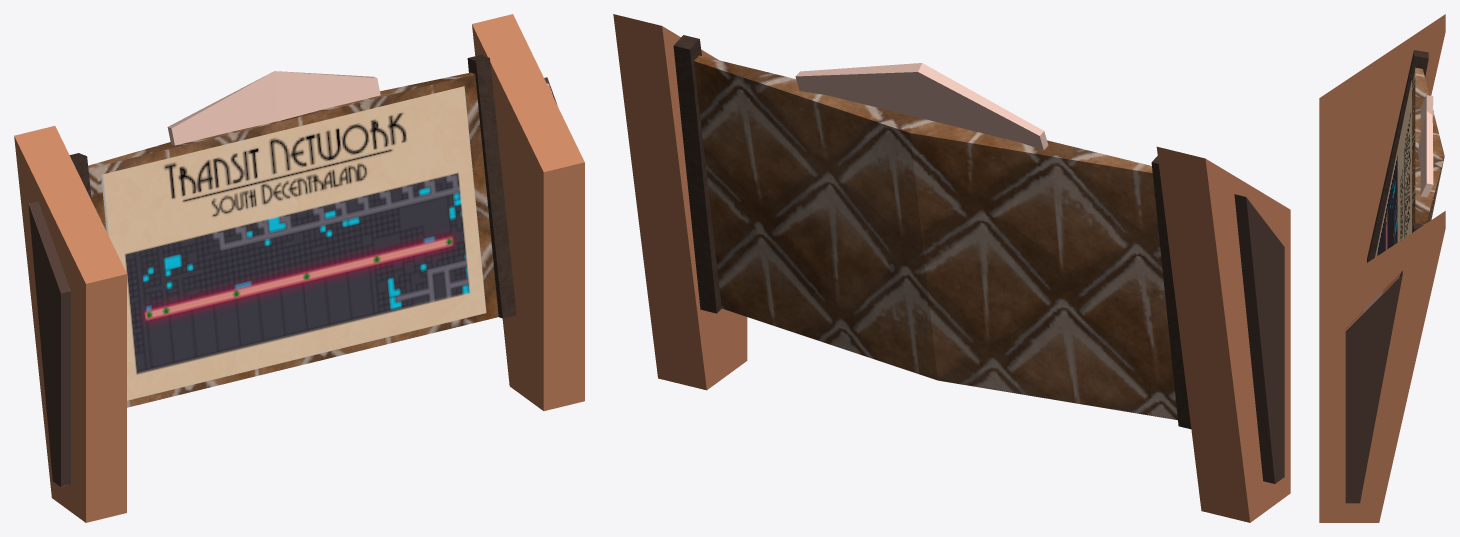
File: Tower_Station_Sign_Art.glb
The picture shows the model from 3 angles, left to right: view 1: azimuth 30°, elevation 25°; view 2: azimuth 150°, elevation 25°; view 3: azimuth 270°, elevation 25°; orthographic projection. The views are drawn at different scales.
Visible parts, largest first — view 1: Tower_Station_Sign_Art; view 2: Tower_Station_Sign_Art; view 3: Tower_Station_Sign_Art.
Boxes of the visible parts, x1,y1,x2,y2 form: Tower_Station_Sign_Art: (14, 14, 584, 522); Tower_Station_Sign_Art: (613, 14, 1290, 522); Tower_Station_Sign_Art: (1319, 14, 1445, 522).
Size of the model in its own units: 2.14 by 1.36 by 0.5121.
1 material, 1 textured.
